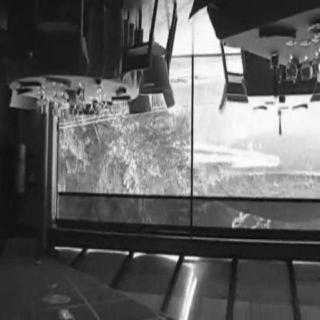other: (232, 102, 266, 136)
